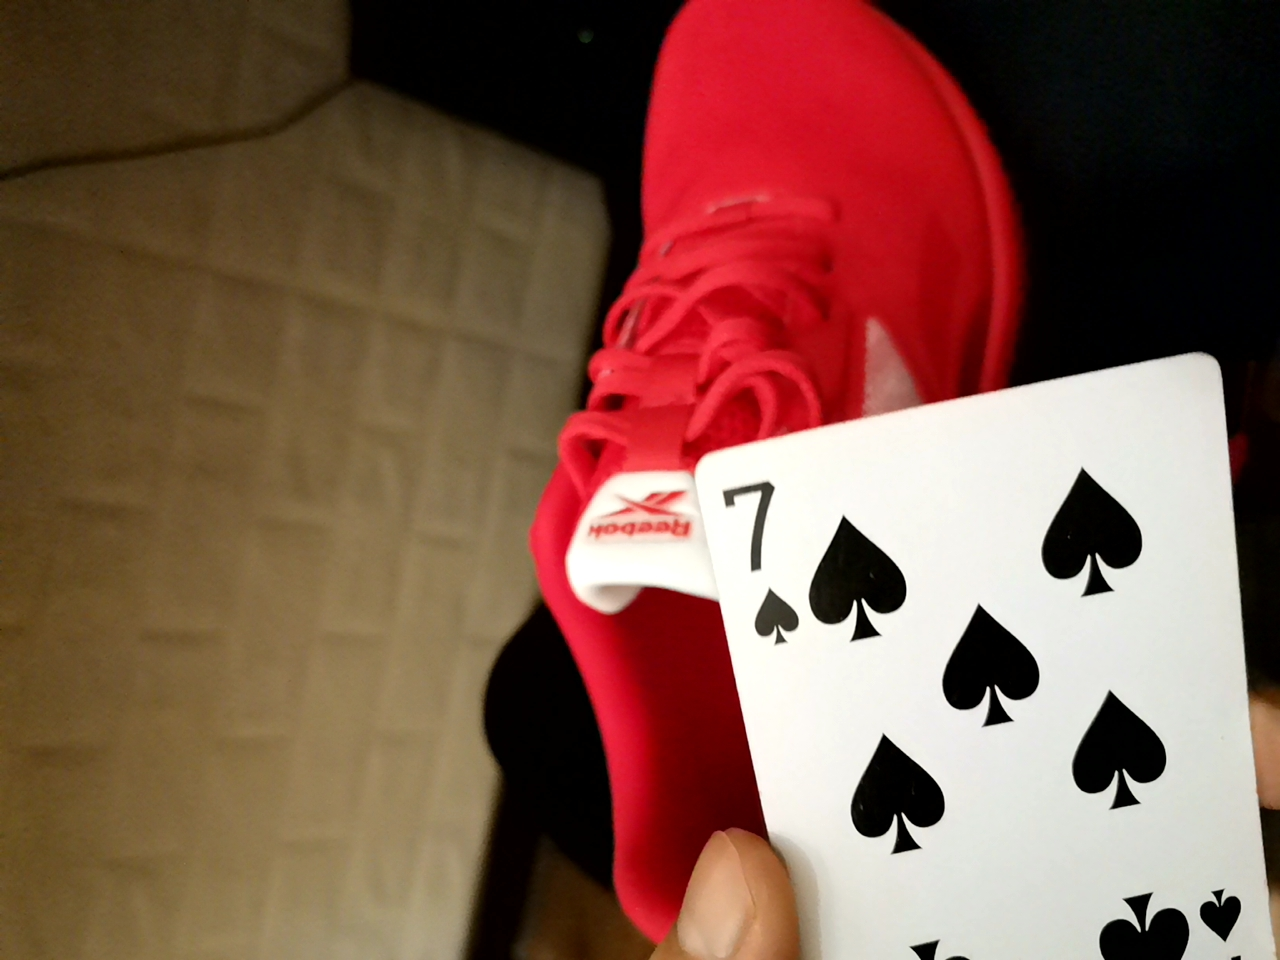ht 7: (647, 349, 1269, 960)
